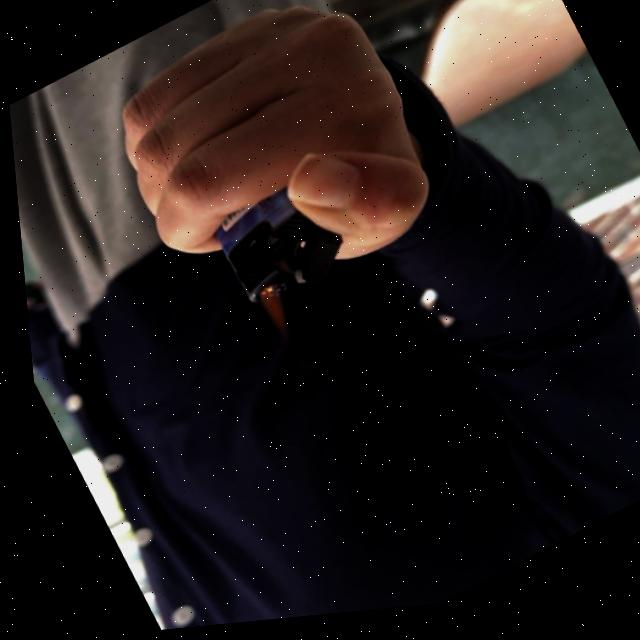Fire: (250, 286, 295, 352)
